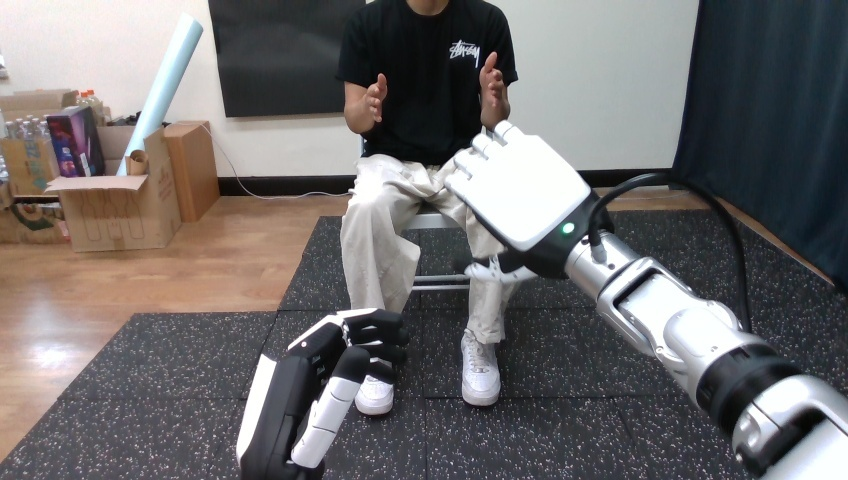left robot hand: (445, 121, 847, 478), (236, 308, 408, 479)
